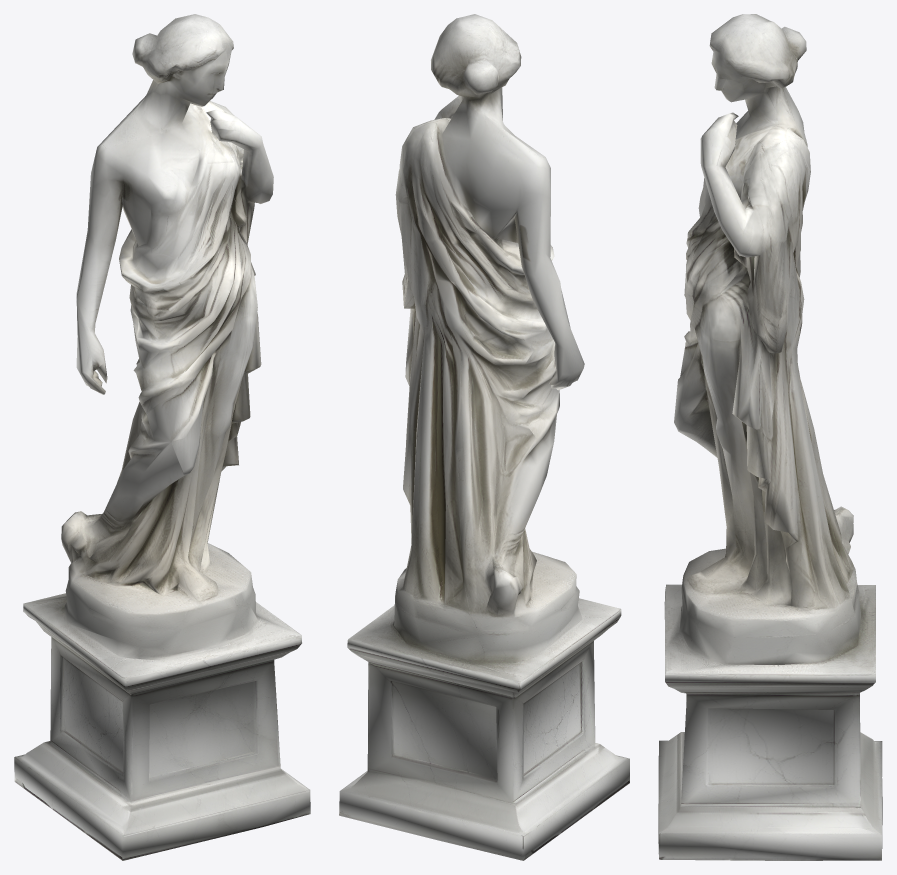
File: Millo.fbx
3 renders of one model, left to right at view 1: azimuth 30°, elevation 25°; view 2: azimuth 150°, elevation 25°; view 3: azimuth 270°, elevation 25°, orthographic. The views are drawn at different scales.
Parts seen in each view (by area): view 1: Mesh_0; view 2: Mesh_0; view 3: Mesh_0.
Part boxes in pixels (<box>): Mesh_0: <box>14,14,310,860</box>; Mesh_0: <box>339,14,629,860</box>; Mesh_0: <box>658,14,882,860</box>.
Size of the model in its own units: 48.47 by 191 by 48.14.
1 material, 1 textured.
